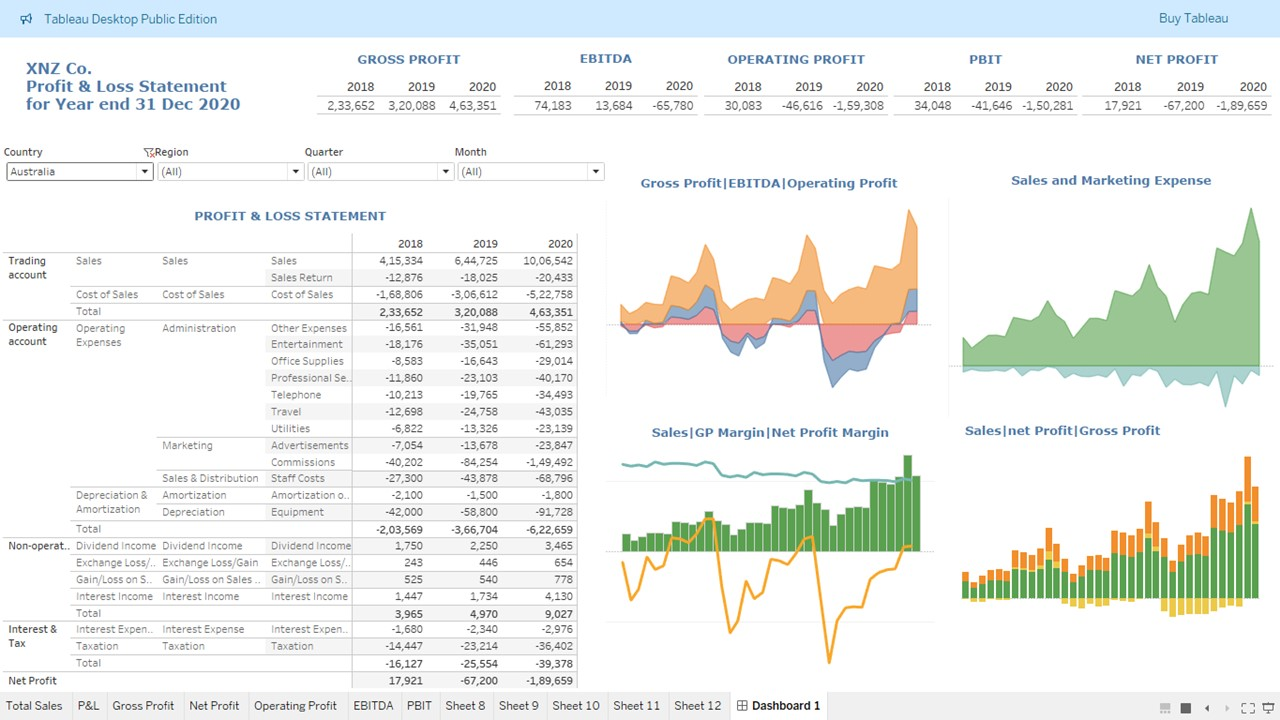

What the dashboard file says about the page in this screenshot:
{"tool":"tableau","page":{"name":"Dashboard 1","canvas":[1000,1000],"units":"permille","ordinal":0},"visuals":[{"type":"title","box":[18.7,3.6,207.5,144.1]},{"type":"worksheet","title":"EBITDA","mark":"Automatic","cols":["Date (Calendar)"],"box":[401.5,14.2,150,142.3]},{"type":"worksheet","title":"Gross Profit","mark":"Automatic","cols":["Date (Calendar)"],"box":[247.8,16,153.7,142.3]},{"type":"worksheet","title":"Operating Profit","mark":"Automatic","cols":["Date (Calendar)"],"box":[550,16,148.5,144.1]},{"type":"worksheet","title":"PBIT","mark":"Automatic","cols":["Date (Calendar)"],"box":[697.8,16,147,172.6]},{"type":"worksheet","title":"Net Profit","mark":"Automatic","cols":["Date (Calendar)"],"box":[844.8,16,153.7,138.8]},{"type":"filter","title":"P&L","param":"[federated.1eqq2k51r41y211ffzjnn1qv825l].[none:Country:nk]","box":[3,163.7,119.4,106.8]},{"type":"filter","title":"P&L","param":"[federated.1eqq2k51r41y211ffzjnn1qv825l].[none:Region:nk]","box":[120.9,163.7,119.4,92.5]},{"type":"filter","title":"P&L","param":"[federated.1eqq2k51r41y211ffzjnn1qv825l].[none:Quarter:nk]","box":[238.1,163.7,119.4,76.5]},{"type":"filter","title":"P&L","param":"[federated.1eqq2k51r41y211ffzjnn1qv825l].[none:Month:nk]","box":[355.2,163.7,119.4,83.6]},{"type":"worksheet","title":"Sheet 10","mark":"Area","cols":["Date (Calendar)"],"box":[740.3,201.1,254.6,379]},{"type":"worksheet","title":"Sheet 9","mark":"Area","cols":["Date (Calendar)"],"box":[472.7,204.6,254.6,343.4]},{"type":"worksheet","title":"P&L","mark":"Automatic","rows":["Class","SubClass","SubClass2","Account"],"cols":["Date (Calendar)"],"box":[2.2,254.5,473.1,740.2]},{"type":"worksheet","title":"Sheet 12","mark":"Bar","cols":["Date (Calendar)","Date (Calendar)","Date (Calendar)"],"box":[750.6,583.6,232.9,314.9]},{"type":"worksheet","title":"Sheet 11","mark":"Automatic","rows":["Calculation_327636875976085504"],"cols":["Date (Calendar)"],"box":[472.7,585.4,257.1,386.1]}]}

Visuals, with their boxes on the dashboard's canvas, which has no fixed pixel size, in thousandths of its width and height (x1, y1, x2, y2). These are canvas units, not pixel positions in the 1280x720 screenshot, which may show the page scaled, cropped or inside an application window:
title: locate(19, 4, 226, 148)
"EBITDA" worksheet: locate(402, 14, 552, 156)
"Gross Profit" worksheet: locate(248, 16, 402, 158)
"Operating Profit" worksheet: locate(550, 16, 698, 160)
"PBIT" worksheet: locate(698, 16, 845, 189)
"Net Profit" worksheet: locate(845, 16, 998, 155)
"P&L" filter: locate(3, 164, 122, 270)
"P&L" filter: locate(121, 164, 240, 256)
"P&L" filter: locate(238, 164, 358, 240)
"P&L" filter: locate(355, 164, 475, 247)
"Sheet 10" worksheet (Area marks): locate(740, 201, 995, 580)
"Sheet 9" worksheet (Area marks): locate(473, 205, 727, 548)
"P&L" worksheet: locate(2, 254, 475, 995)
"Sheet 12" worksheet (Bar marks): locate(751, 584, 984, 898)
"Sheet 11" worksheet: locate(473, 585, 730, 972)
